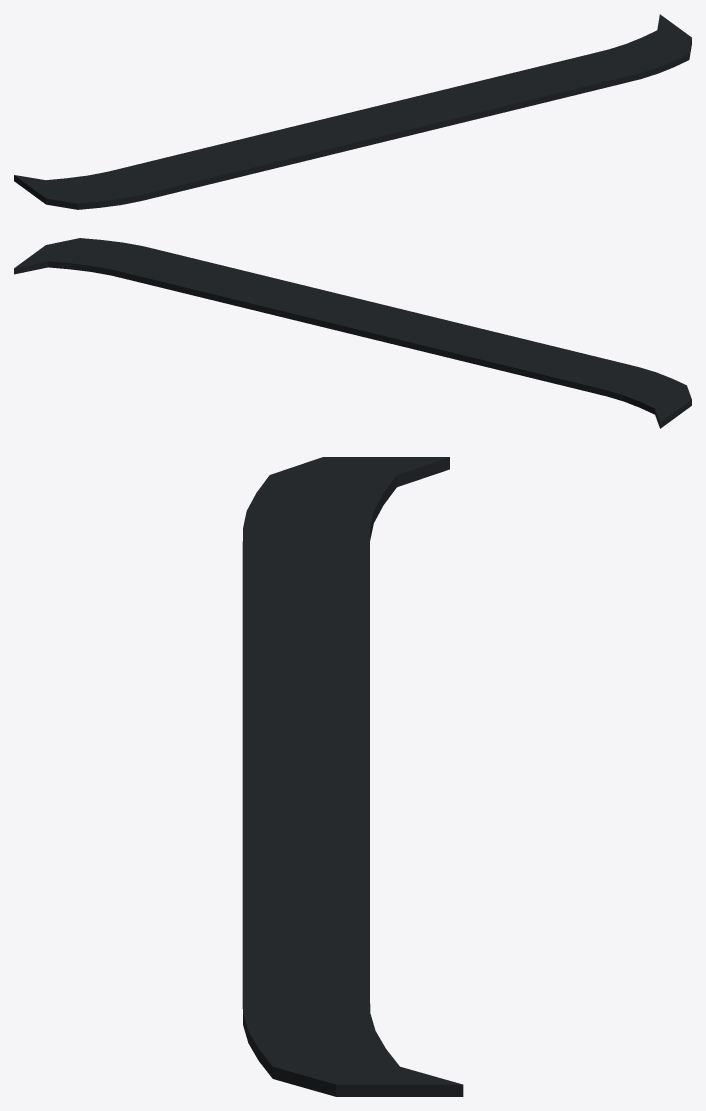
Rendered from hana_roadster_front_lip.glb.
3 views of the same model, one above another, from view 1: azimuth 30°, elevation 25°; view 2: azimuth 150°, elevation 25°; view 3: azimuth 270°, elevation 25° (orthographic). The views are drawn at different scales.
Parts seen in each view (by area): view 1: model; view 2: model; view 3: model.
Boxes of the visible parts, box(x1,y1,x2,y2) form: model: box(14, 14, 691, 209); model: box(14, 238, 691, 428); model: box(242, 457, 463, 1096).
Size of the model in its own units: 1.75 by 0.016 by 0.2598.
1 material, 1 textured.
